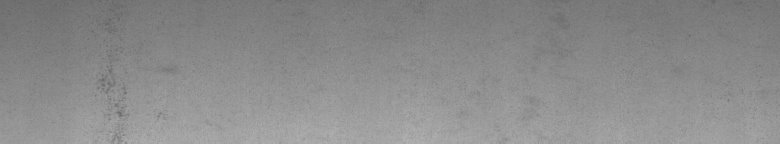ib: (98, 68, 174, 120)
